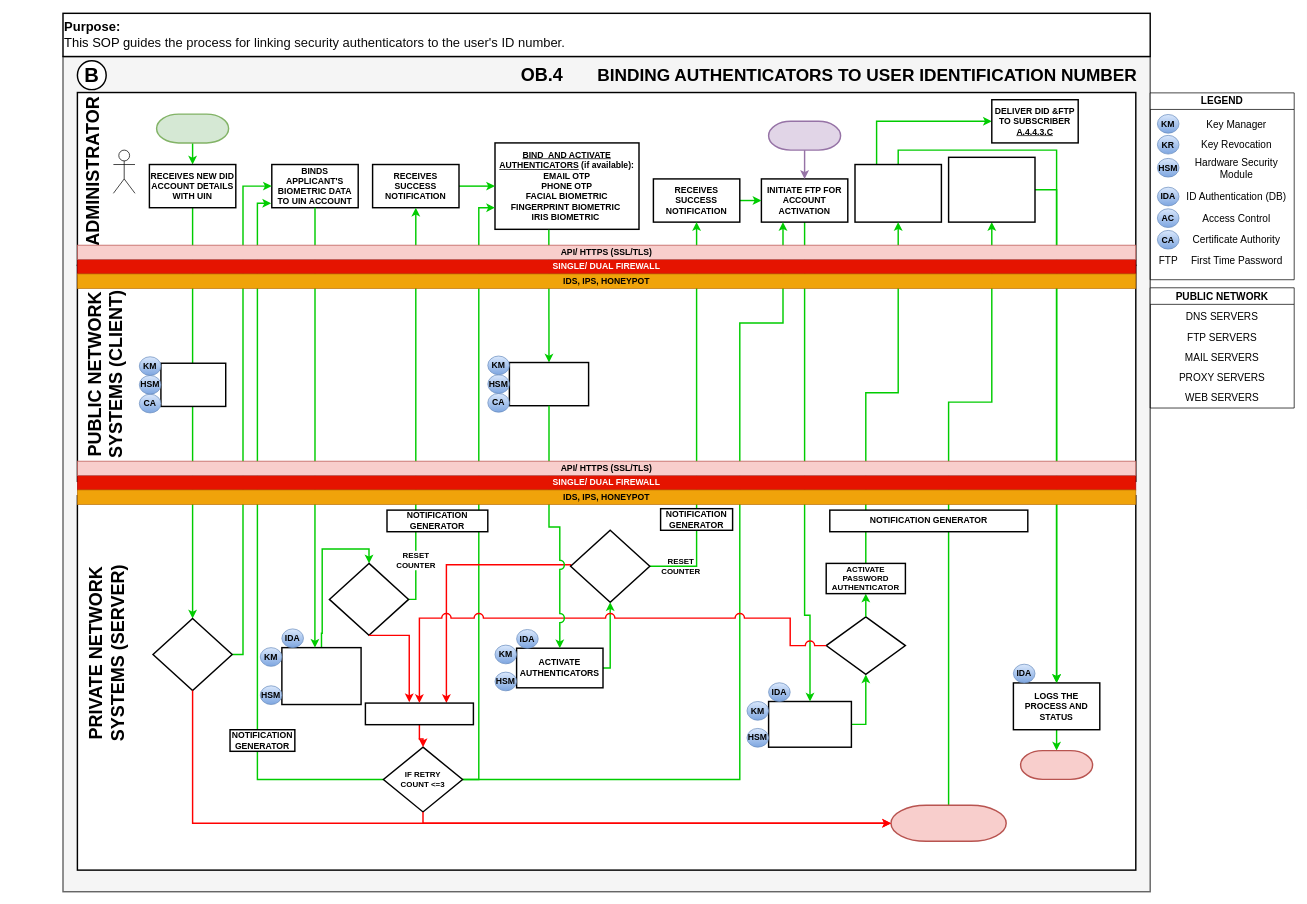
Some shapes in this 1307 by 904 pixel diagram are drawn without their labels. The centre of each missing label's shape, as x and y in pixels:
"ADMIN" goes at [124,171].
"CONTINUE: NEW FTP" goes at [804,135].
"END" goes at [1056,765].
"EXCEPTION AND ERROR HANDLING (COUNTER)" goes at [419,713].
"GENERATE 12 CHARACTER FTP AND ASSIGN TO DID ACCOUNT" goes at [810,724].
"IF AUTHENTICAT- OR ACTIVATION SUCCESS" goes at [610,566].
"IF BIOMETRIC STORAGE SUCCESS" goes at [368,599].
"IF FTP GENERATION SUCCESS" goes at [865,645].
"IF NEW DID ACCOUNT SUCCESS" goes at [192,654].
"MASK & ENCRYPT AUTHENTICATOR DETAILS" goes at [548,383].
"MASK & ENCRYPT UIN NUMBER" goes at [193,384].
"RECEIVE AUTHENTICATOR BINDING FAILURE NOTIFICATION WITH ERROR MESSAGE" goes at [991,189].
"RECEIVE AUTHENTICATOR BINDING SUCCESSFUL NOTIFICATION" goes at [898,192].
"START (ONLINE)" goes at [192,128].
"STORE BIOMETRIC DATA WITH ENCRYPTED AND HASHED FORM" goes at [321,676].
"TERMINATE PROCESS: WITH ERROR MESSAGE" goes at [948,823].
